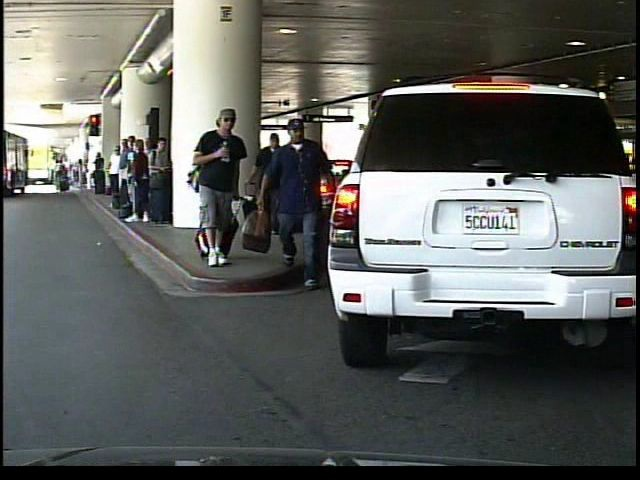person: (257, 100, 332, 280), (191, 104, 247, 268), (253, 135, 294, 239)
